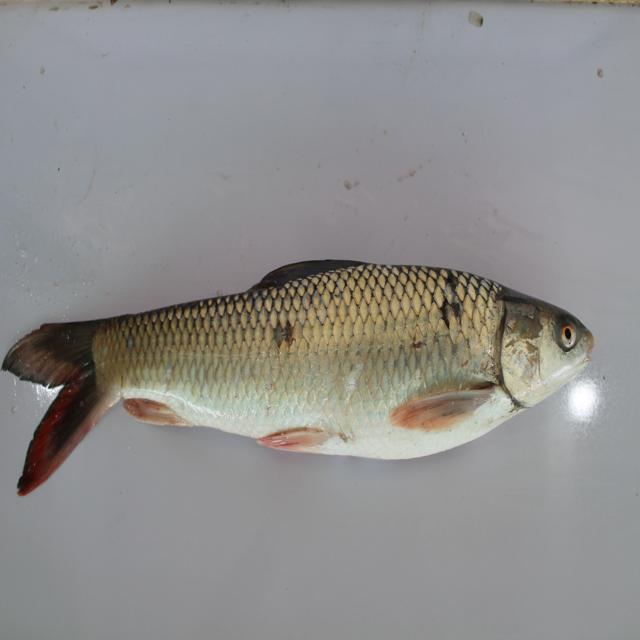Mori: (2, 252, 599, 514)
